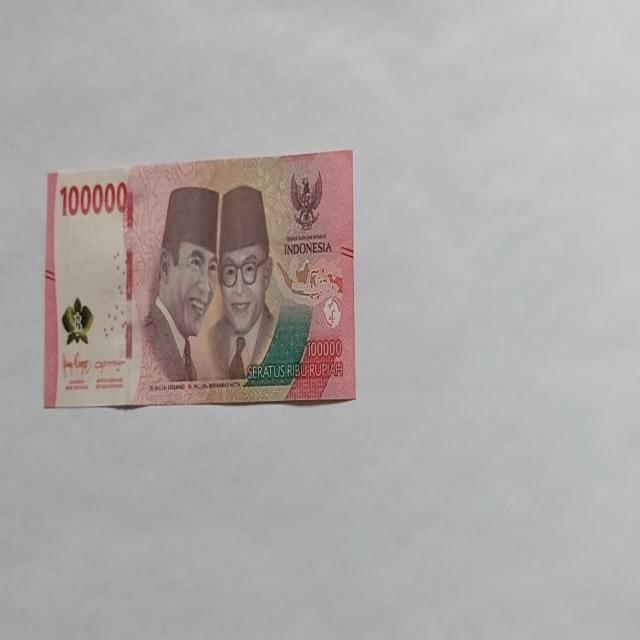seratus ribu rupiah: (44, 149, 356, 409)
